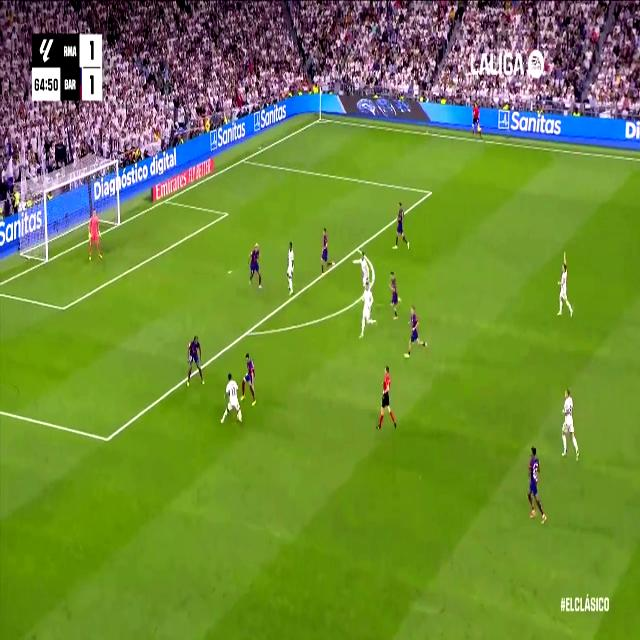bigarea_bottom_inner: (102, 426, 112, 452)
bigarea_top_inner: (426, 183, 434, 201)
bigarea_top_outter: (239, 152, 247, 165)
bottom_arc_area_intersection: (244, 322, 252, 341)
corner: (316, 112, 326, 125)
smallarea_bottom_inner: (60, 297, 68, 319)
smallarea_top_inner: (224, 207, 228, 220)
top_arc_area_intersection: (353, 239, 361, 256)
